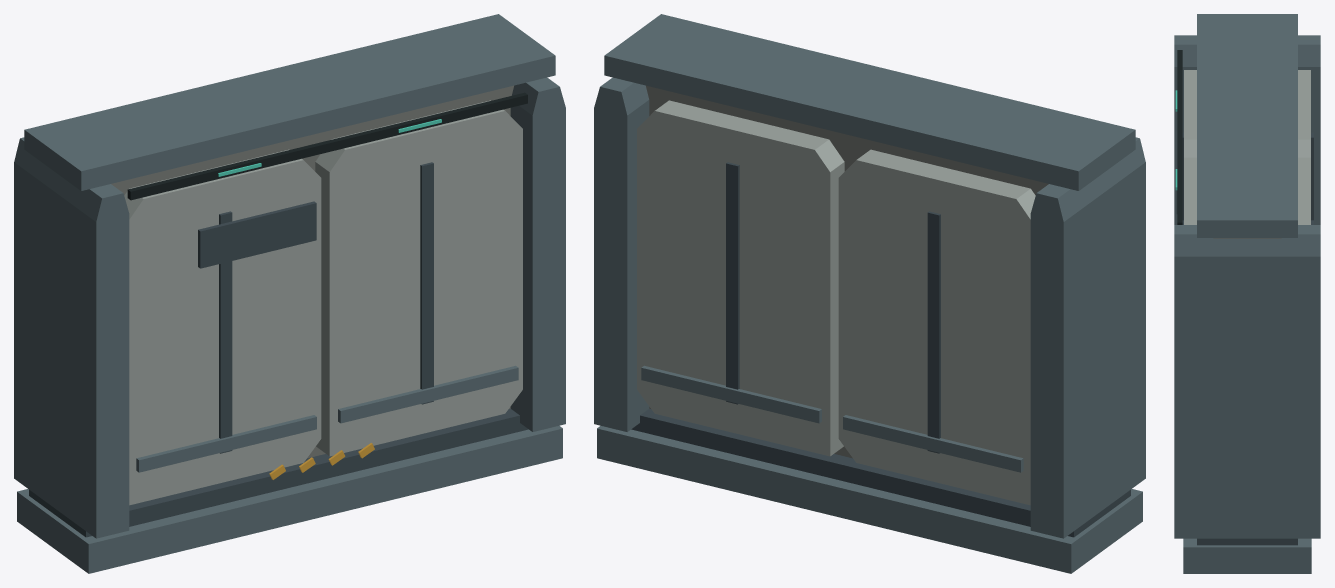
Rendered from wall_standard_d0.glb.
3 renders of one model, left to right at view 1: azimuth 30°, elevation 25°; view 2: azimuth 150°, elevation 25°; view 3: azimuth 270°, elevation 25°, orthographic. The views are drawn at different scales.
Parts seen in each view (by area): view 1: GAME_MESH_STATIC; view 2: GAME_MESH_STATIC; view 3: GAME_MESH_STATIC.
Boxes of the visible parts, x1=… form: GAME_MESH_STATIC: x1=14, y1=14, x2=565, y2=573; GAME_MESH_STATIC: x1=594, y1=14, x2=1145, y2=573; GAME_MESH_STATIC: x1=1174, y1=14, x2=1320, y2=573.
Bounding box in the file's own units: 4 × 3.2 × 1.2.
